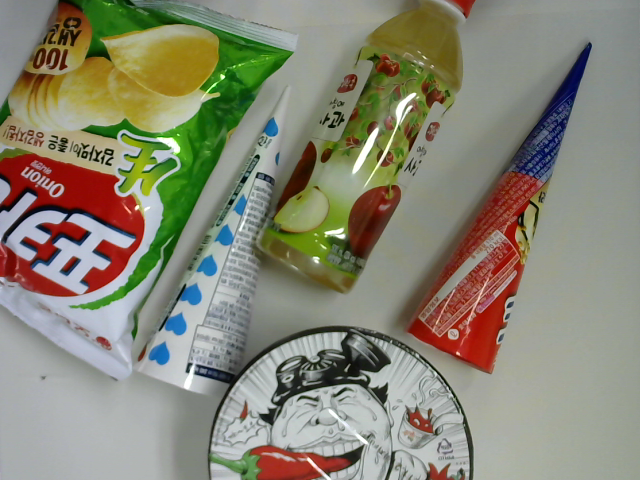Bravo_Cone_(Banila)_CVS: (133, 82, 294, 397)
HeJangsock: (203, 326, 473, 480)
Morning_Apple_500ml: (252, 1, 479, 295)
Pocachip_Onion: (1, 1, 301, 382)
World_Cone_Banila: (403, 41, 594, 375)
